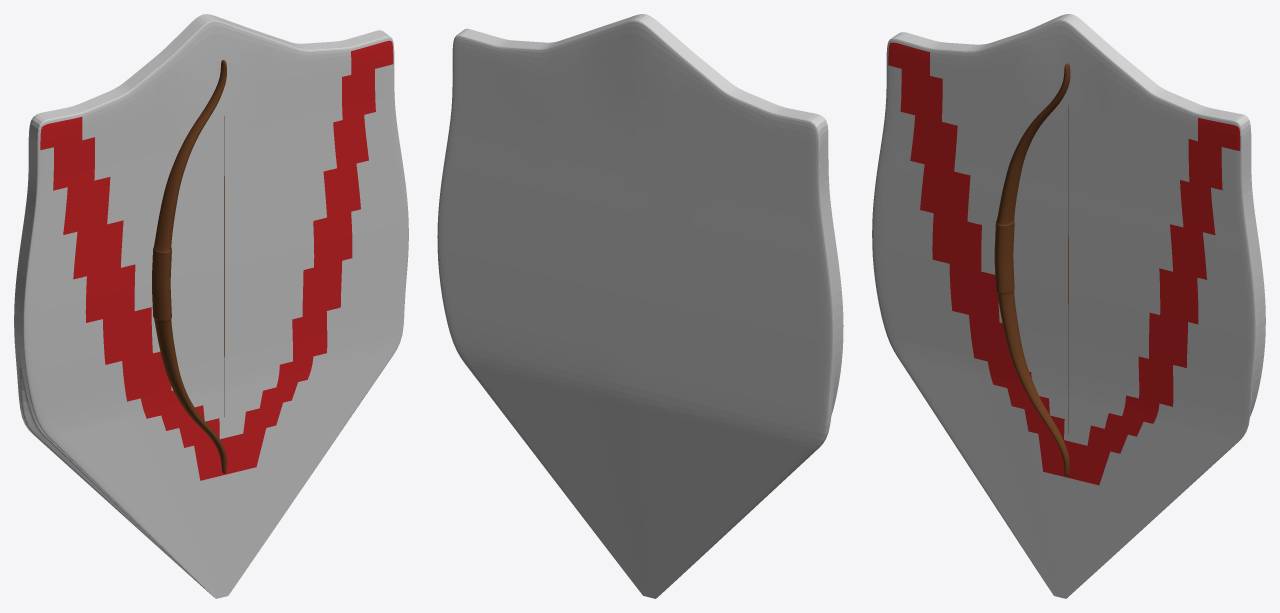
The model's file is escut_final_arc.fbx.
3 views of the same model, side by side, from view 1: azimuth 30°, elevation 25°; view 2: azimuth 150°, elevation 25°; view 3: azimuth 330°, elevation 25° (orthographic). The views are drawn at different scales.
Visible parts, largest first — view 1: escut_base; view 2: escut_base; view 3: escut_base.
Boxes of the visible parts, box(x1,y1,x2,y2) form: escut_base: box(14, 14, 408, 598); escut_base: box(437, 14, 843, 598); escut_base: box(872, 14, 1265, 598).
Size of the model in its own units: 35.26 by 50.06 by 3.1.
